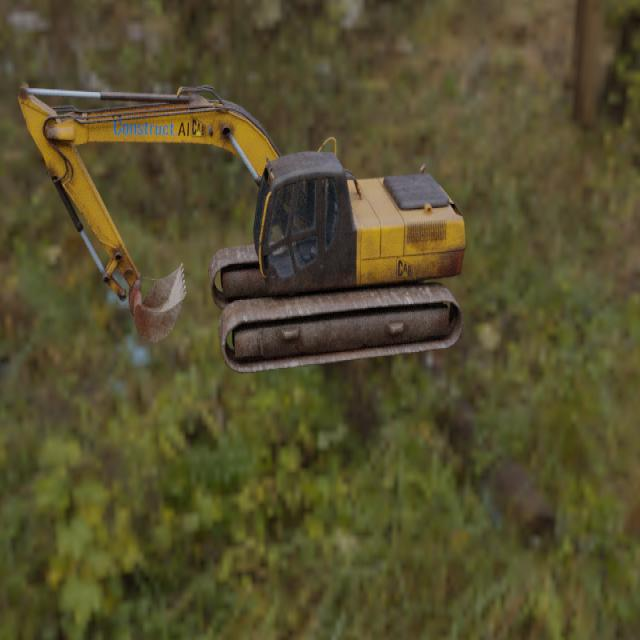excavator: (17, 82, 465, 374)
